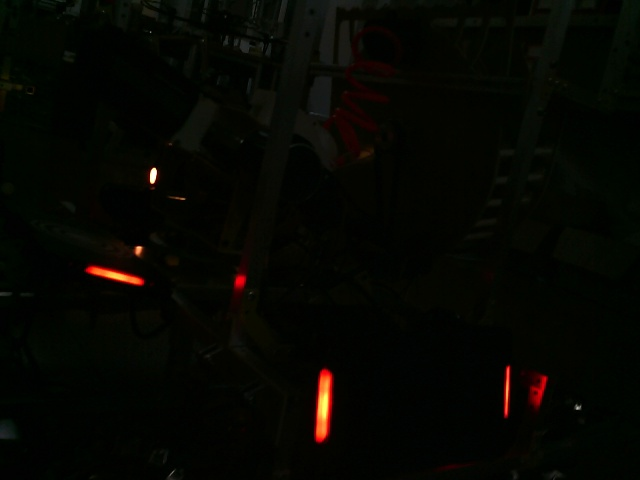lamp: (308, 366, 335, 443), (501, 362, 513, 421)
